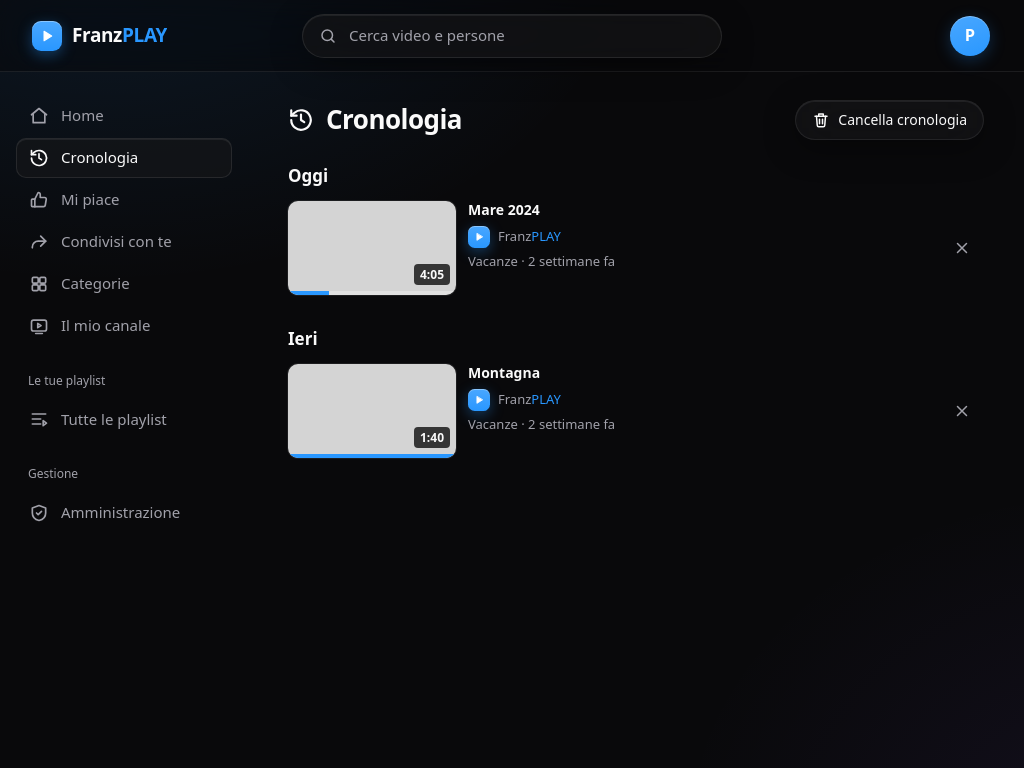
Test case: history page › says so when a video cannot be removed
Click the button named "Togli «Mare 2024» dalla cronologia".
click(962, 248)  # box [940,226,984,270]
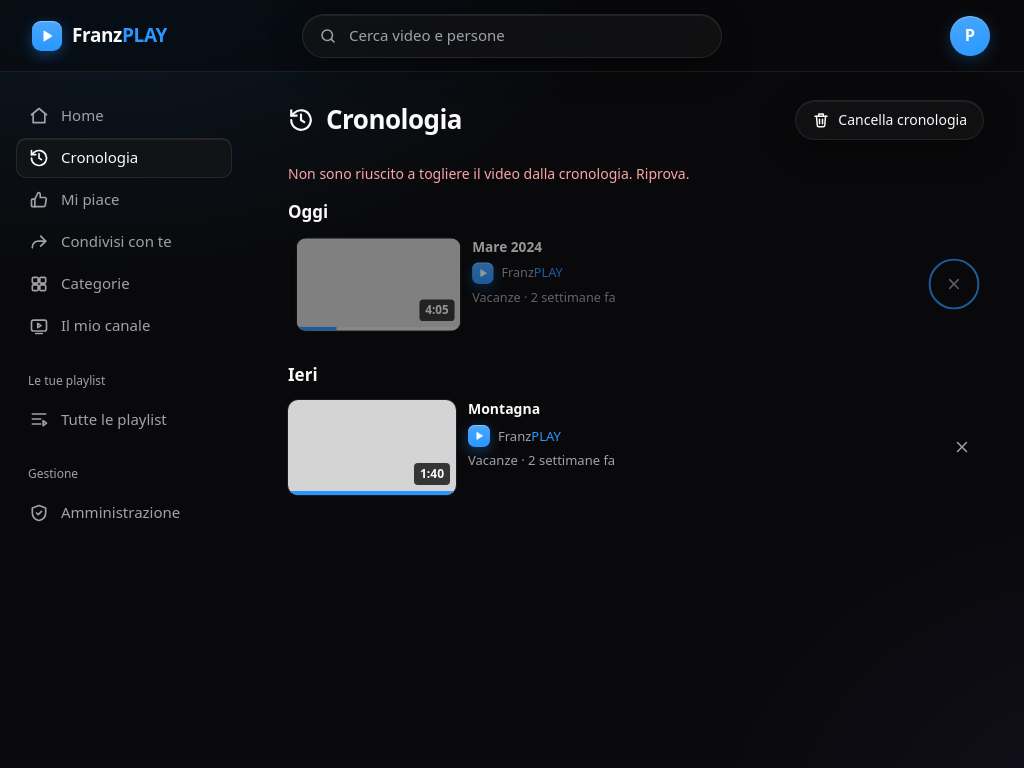
Expected: the element "Oggi" is shown, [288,200,984,331]
Now the message shows "Non sono riuscito a togliere", box [288,164,690,183]
